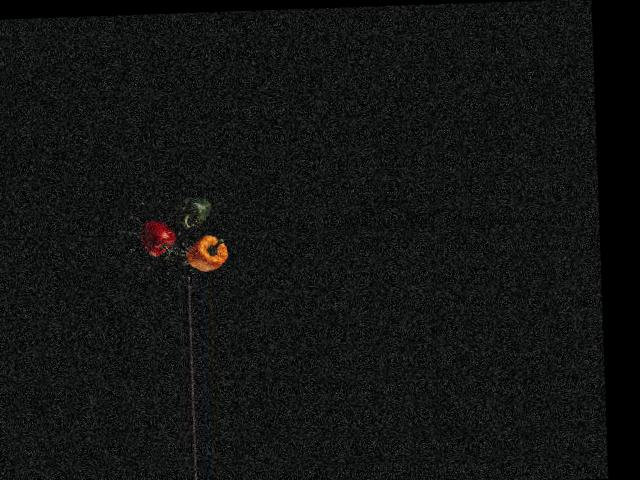bell_pepper: (139, 212, 183, 266)
